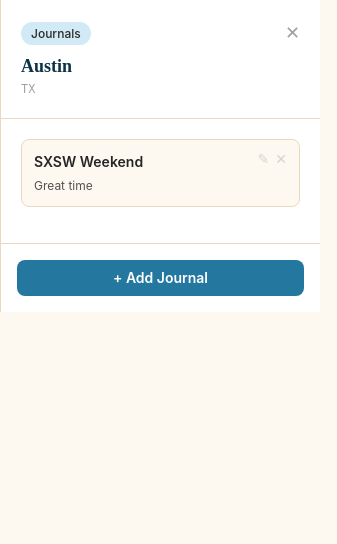
Test: JournalPanel › shows the edit form inline when the edit button is clicked
expect the heading "SXSW Weekend" is shown: met, box [34,153,143,170]
Click the button named "Edit journal SXSW Weekend" at (263, 159), box [258,152,269,166]
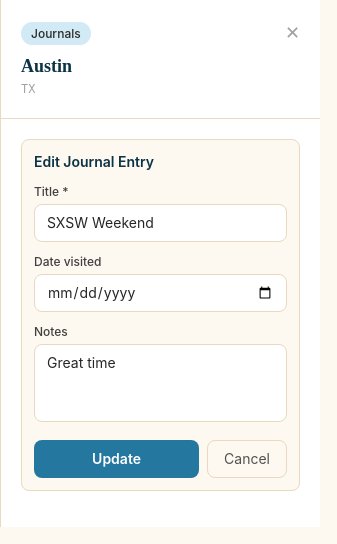
expect the heading "Edit Journal Entry" is shown: met, box [34,153,154,170]
expect the field showing "SXSW Weekend" is shown: met, box [34,204,287,242]
expect the text box showing "Great time" is shown: met, box [34,344,287,422]
